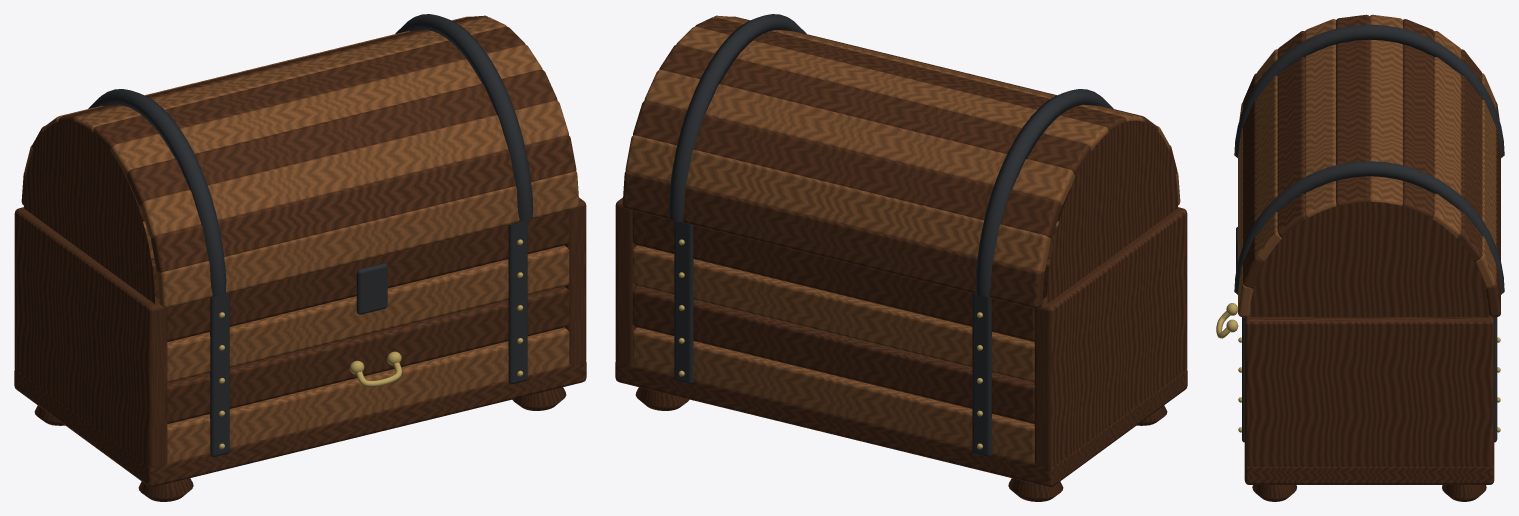
Rendered from treasure-chest.glb.
The picture shows the model from 3 angles, left to right: view 1: azimuth 30°, elevation 25°; view 2: azimuth 150°, elevation 25°; view 3: azimuth 270°, elevation 25°; orthographic projection. The views are drawn at different scales.
Visible parts, largest first — view 1: treasure-chest; view 2: treasure-chest; view 3: treasure-chest.
Boxes of the visible parts, x1,y1,x2,y2 form: treasure-chest: [14, 14, 586, 501]; treasure-chest: [615, 14, 1187, 501]; treasure-chest: [1216, 14, 1504, 501].
Bounding box in the file's own units: 0.8 × 0.61 × 0.5.
Materials: 4 (2 with a texture image).
